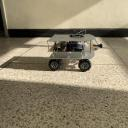cart: (47, 34, 99, 72)
